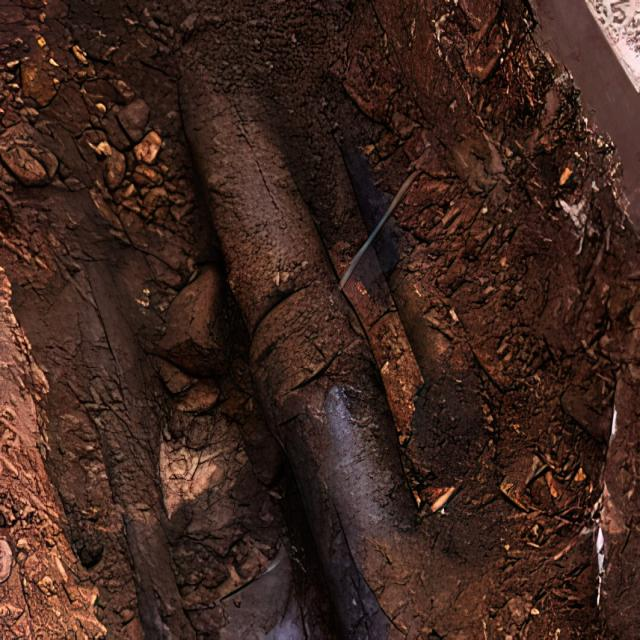leak: (339, 171, 419, 288)
